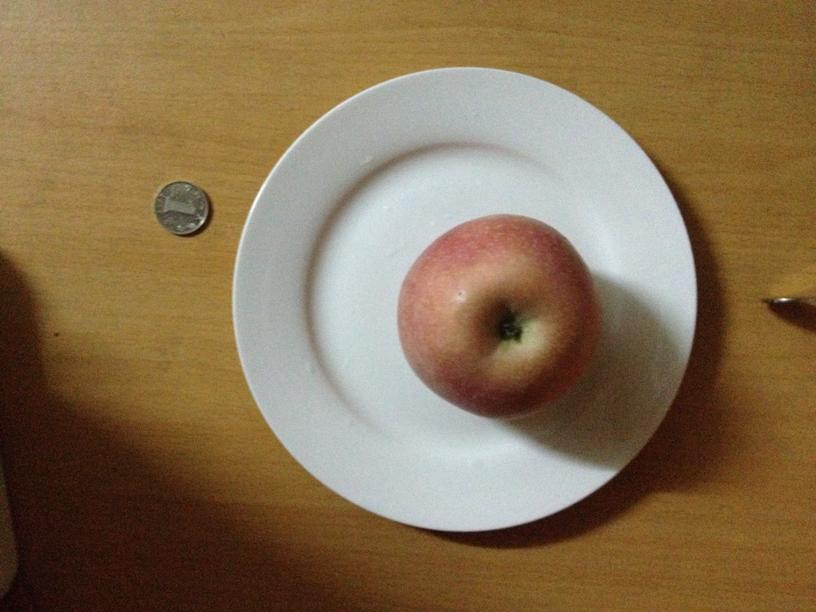apple: (398, 217, 601, 416)
coin: (154, 179, 210, 237)
